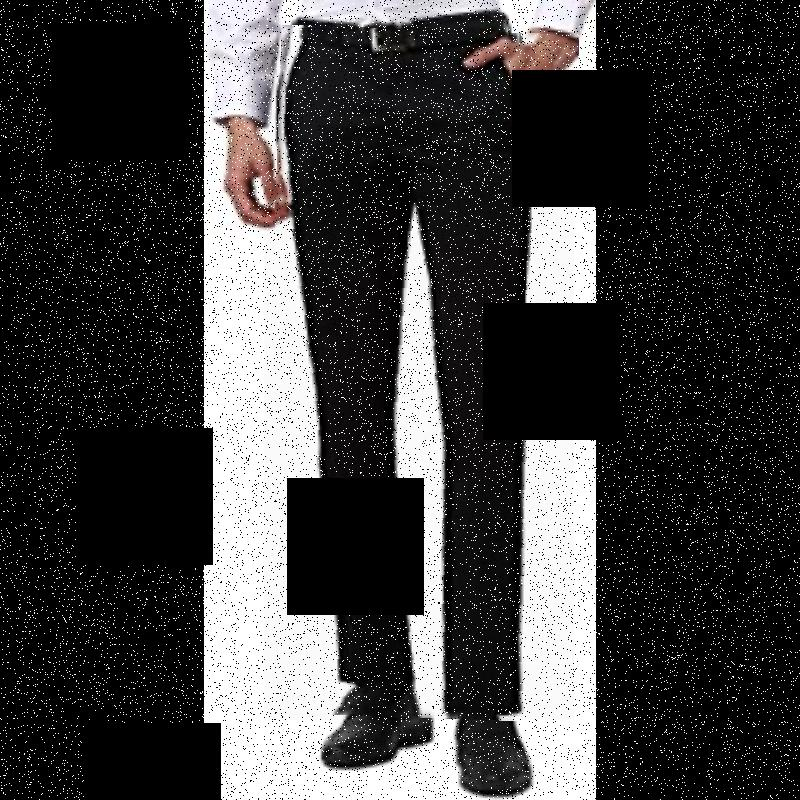Pant: (264, 28, 574, 720)
